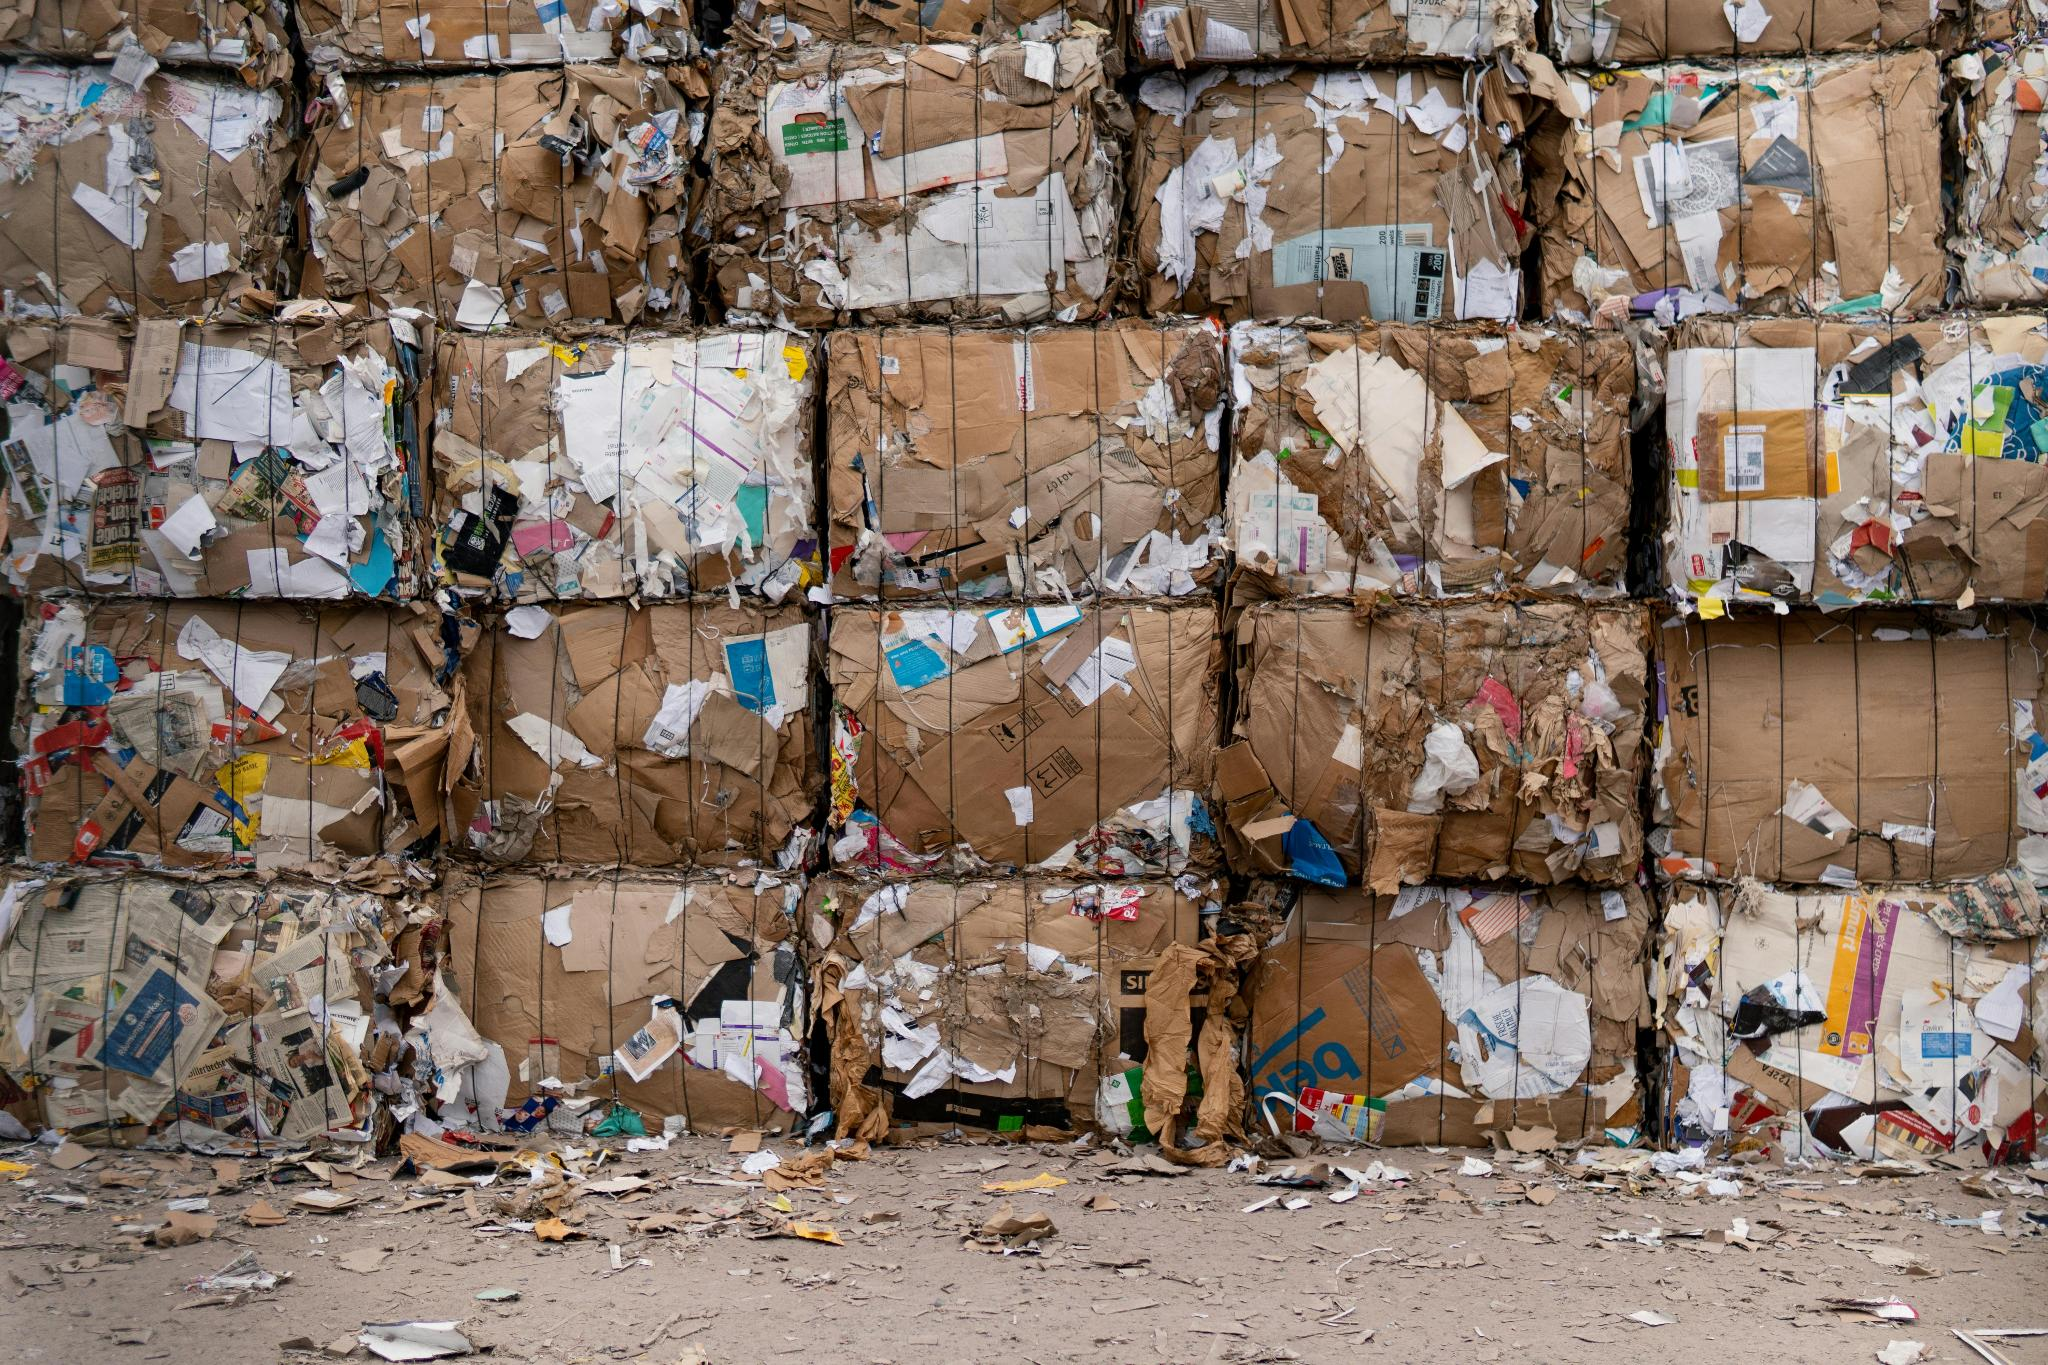Trash: (0, 3, 2048, 1318)
